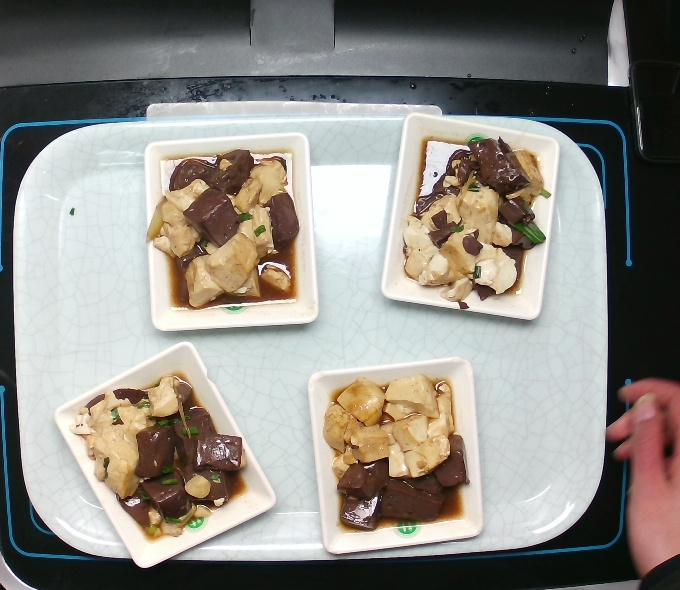wcq-DouFuMiuXue: (61, 367, 252, 546), (141, 141, 308, 317), (399, 133, 556, 312), (319, 367, 475, 539)
